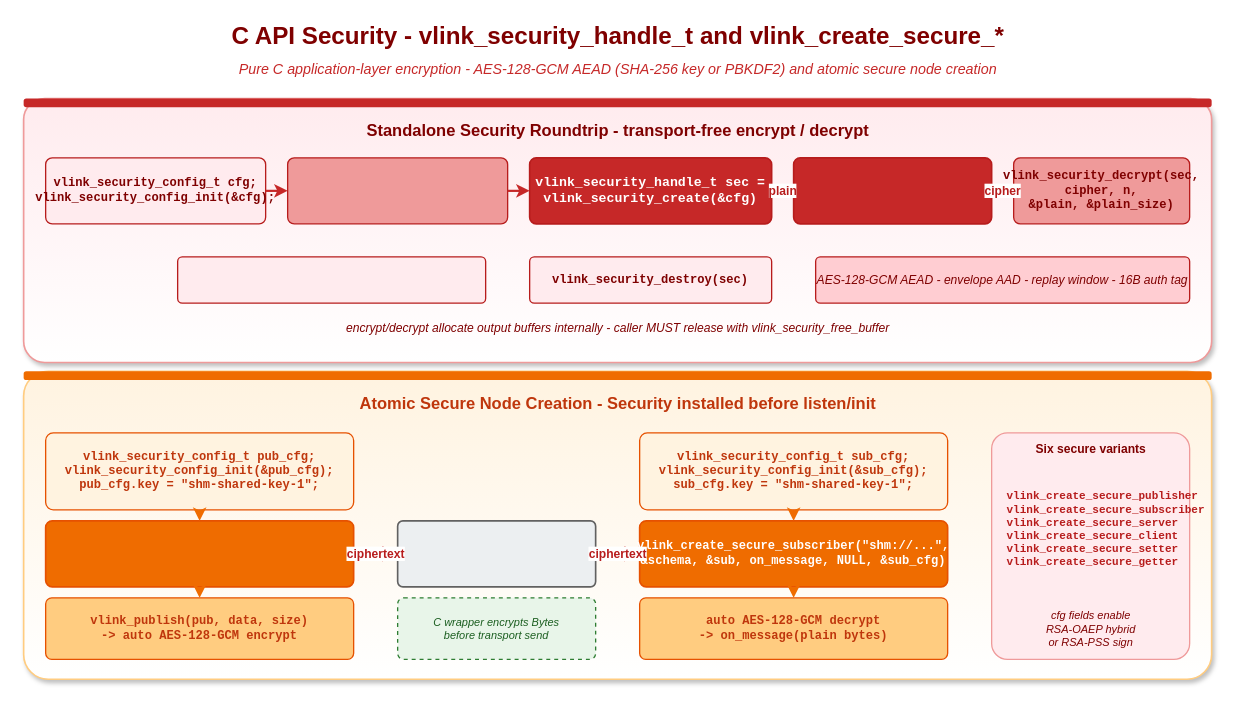
This 1239x706 diagram has some shape labels left out. The centre of each missing label's shape, as x and y in pixels:
cfg.key = "my-secret" OR cfg.passphrase + pbkdf2_salt + pbkdf2_iterations: pixel 397 190
Transport intra:// / shm:// / zenoh://: pixel 496 553
vlink_create_secure_publisher("shm://...", &schema, &pub, &pub_cfg): pixel 199 553
vlink_security_encrypt(sec, plain, n, &cipher, &cipher_size): pixel 892 190
vlink_security_free_buffer(cipher) vlink_security_free_buffer(plain): pixel 331 279
